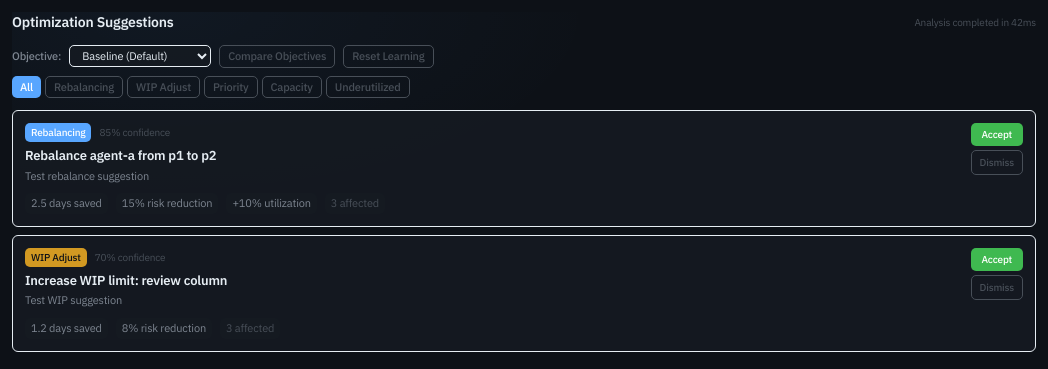
Scenario: OptimizationPanel › removes suggestion from list after accept
Expected: the heading "Rebalance agent-a from p1 to p2" is shown, [25,147,216,164]
Click the button with aria-label "Accept suggestion" at (997, 134), box [970,123,1023,146]
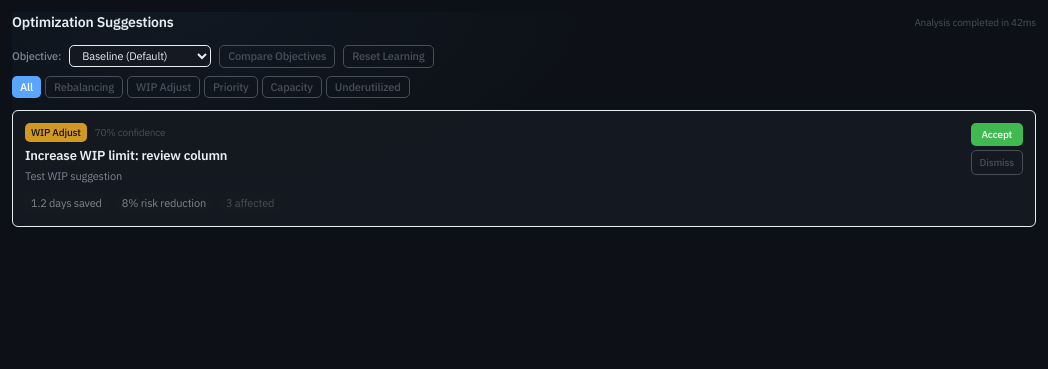
Expected: the heading "Rebalance agent-a from p1 to p2" is gone
